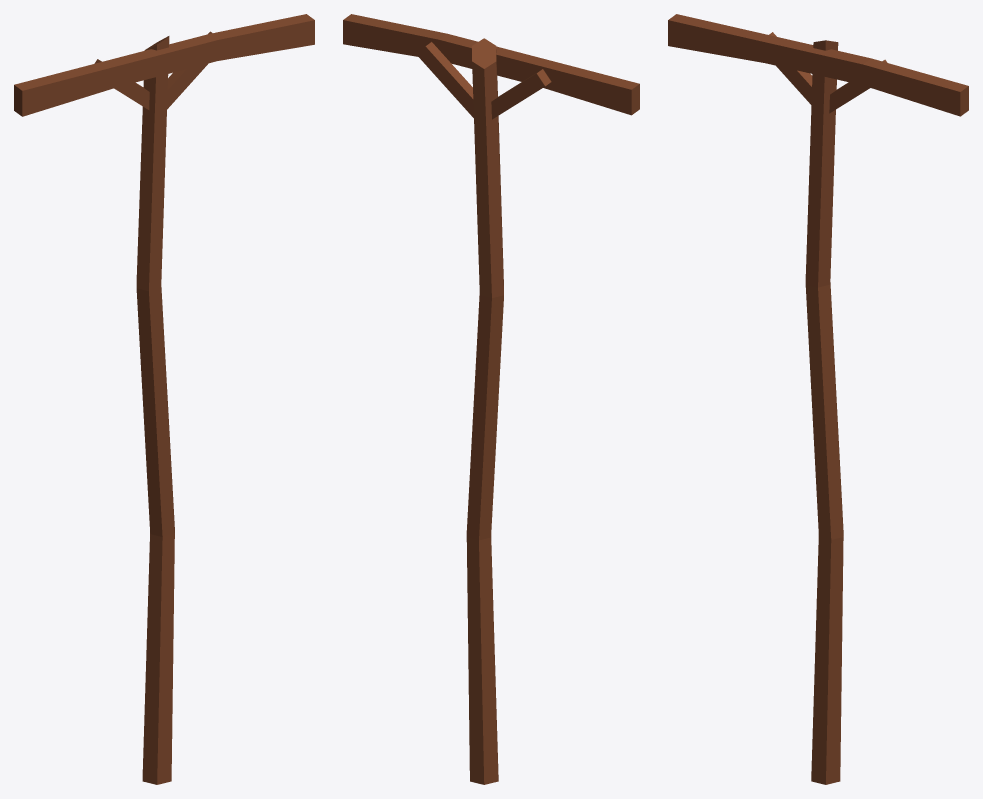
File: LP_PostApoc_WoodenPost.fbx
3 renders of one model, left to right at view 1: azimuth 30°, elevation 25°; view 2: azimuth 150°, elevation 25°; view 3: azimuth 330°, elevation 25°, orthographic.
Visible parts, largest first — view 1: WoodenPost; view 2: WoodenPost; view 3: WoodenPost.
Boxes of the visible parts, <box> form: WoodenPost: <box>14,14,314,784</box>; WoodenPost: <box>343,14,639,784</box>; WoodenPost: <box>668,14,968,784</box>.
Size of the model in its own units: 245 by 594 by 27.2.
